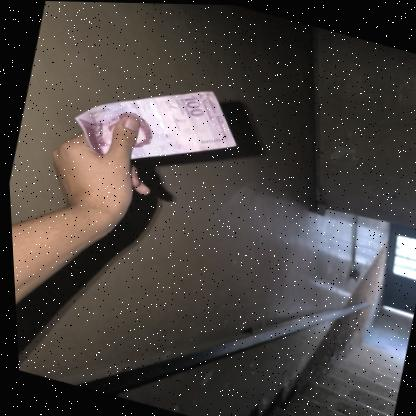one_hundred-front-vef: (62, 55, 249, 190)
